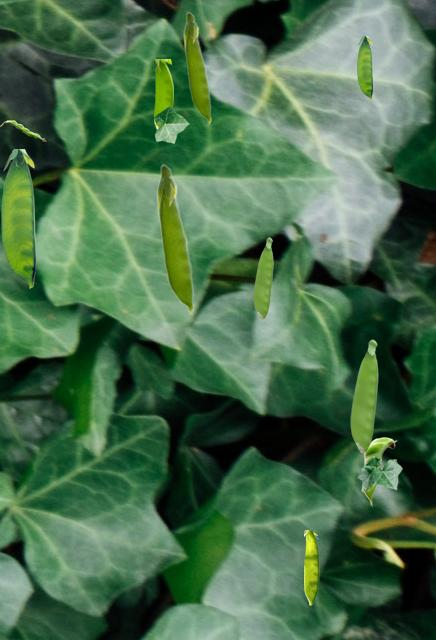pea: (156, 163, 194, 314), (1, 149, 34, 287), (183, 11, 211, 124), (350, 339, 377, 452), (361, 437, 396, 505), (253, 237, 272, 318), (154, 59, 172, 129), (304, 530, 318, 604), (0, 120, 45, 140), (357, 36, 371, 98)
